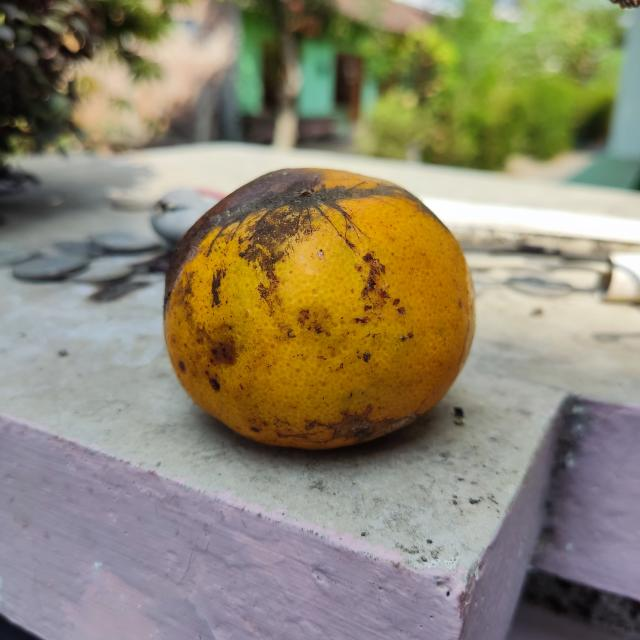orange: (160, 163, 478, 451)
